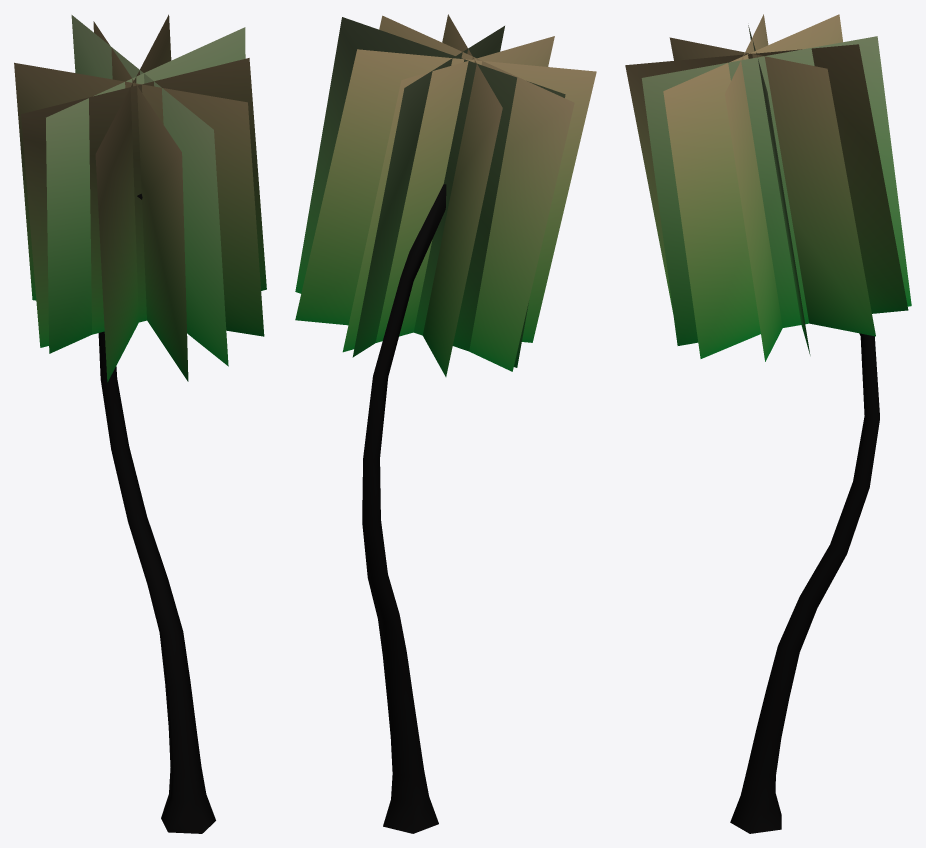
Rendered from Super_Palm_11.fbx.
3 views of the same model, side by side, from view 1: azimuth 30°, elevation 25°; view 2: azimuth 150°, elevation 25°; view 3: azimuth 270°, elevation 25° (orthographic). The views are drawn at different scales.
Visible parts, largest first — view 1: Tree_11; view 2: Tree_11; view 3: Tree_11.
Boxes of the visible parts, left/top/right/bottom form: Tree_11: left=14, top=14, right=266, bottom=833; Tree_11: left=295, top=14, right=596, bottom=833; Tree_11: left=625, top=14, right=911, bottom=833.
Bounding box in the file's own units: 617 × 1838 × 627.
